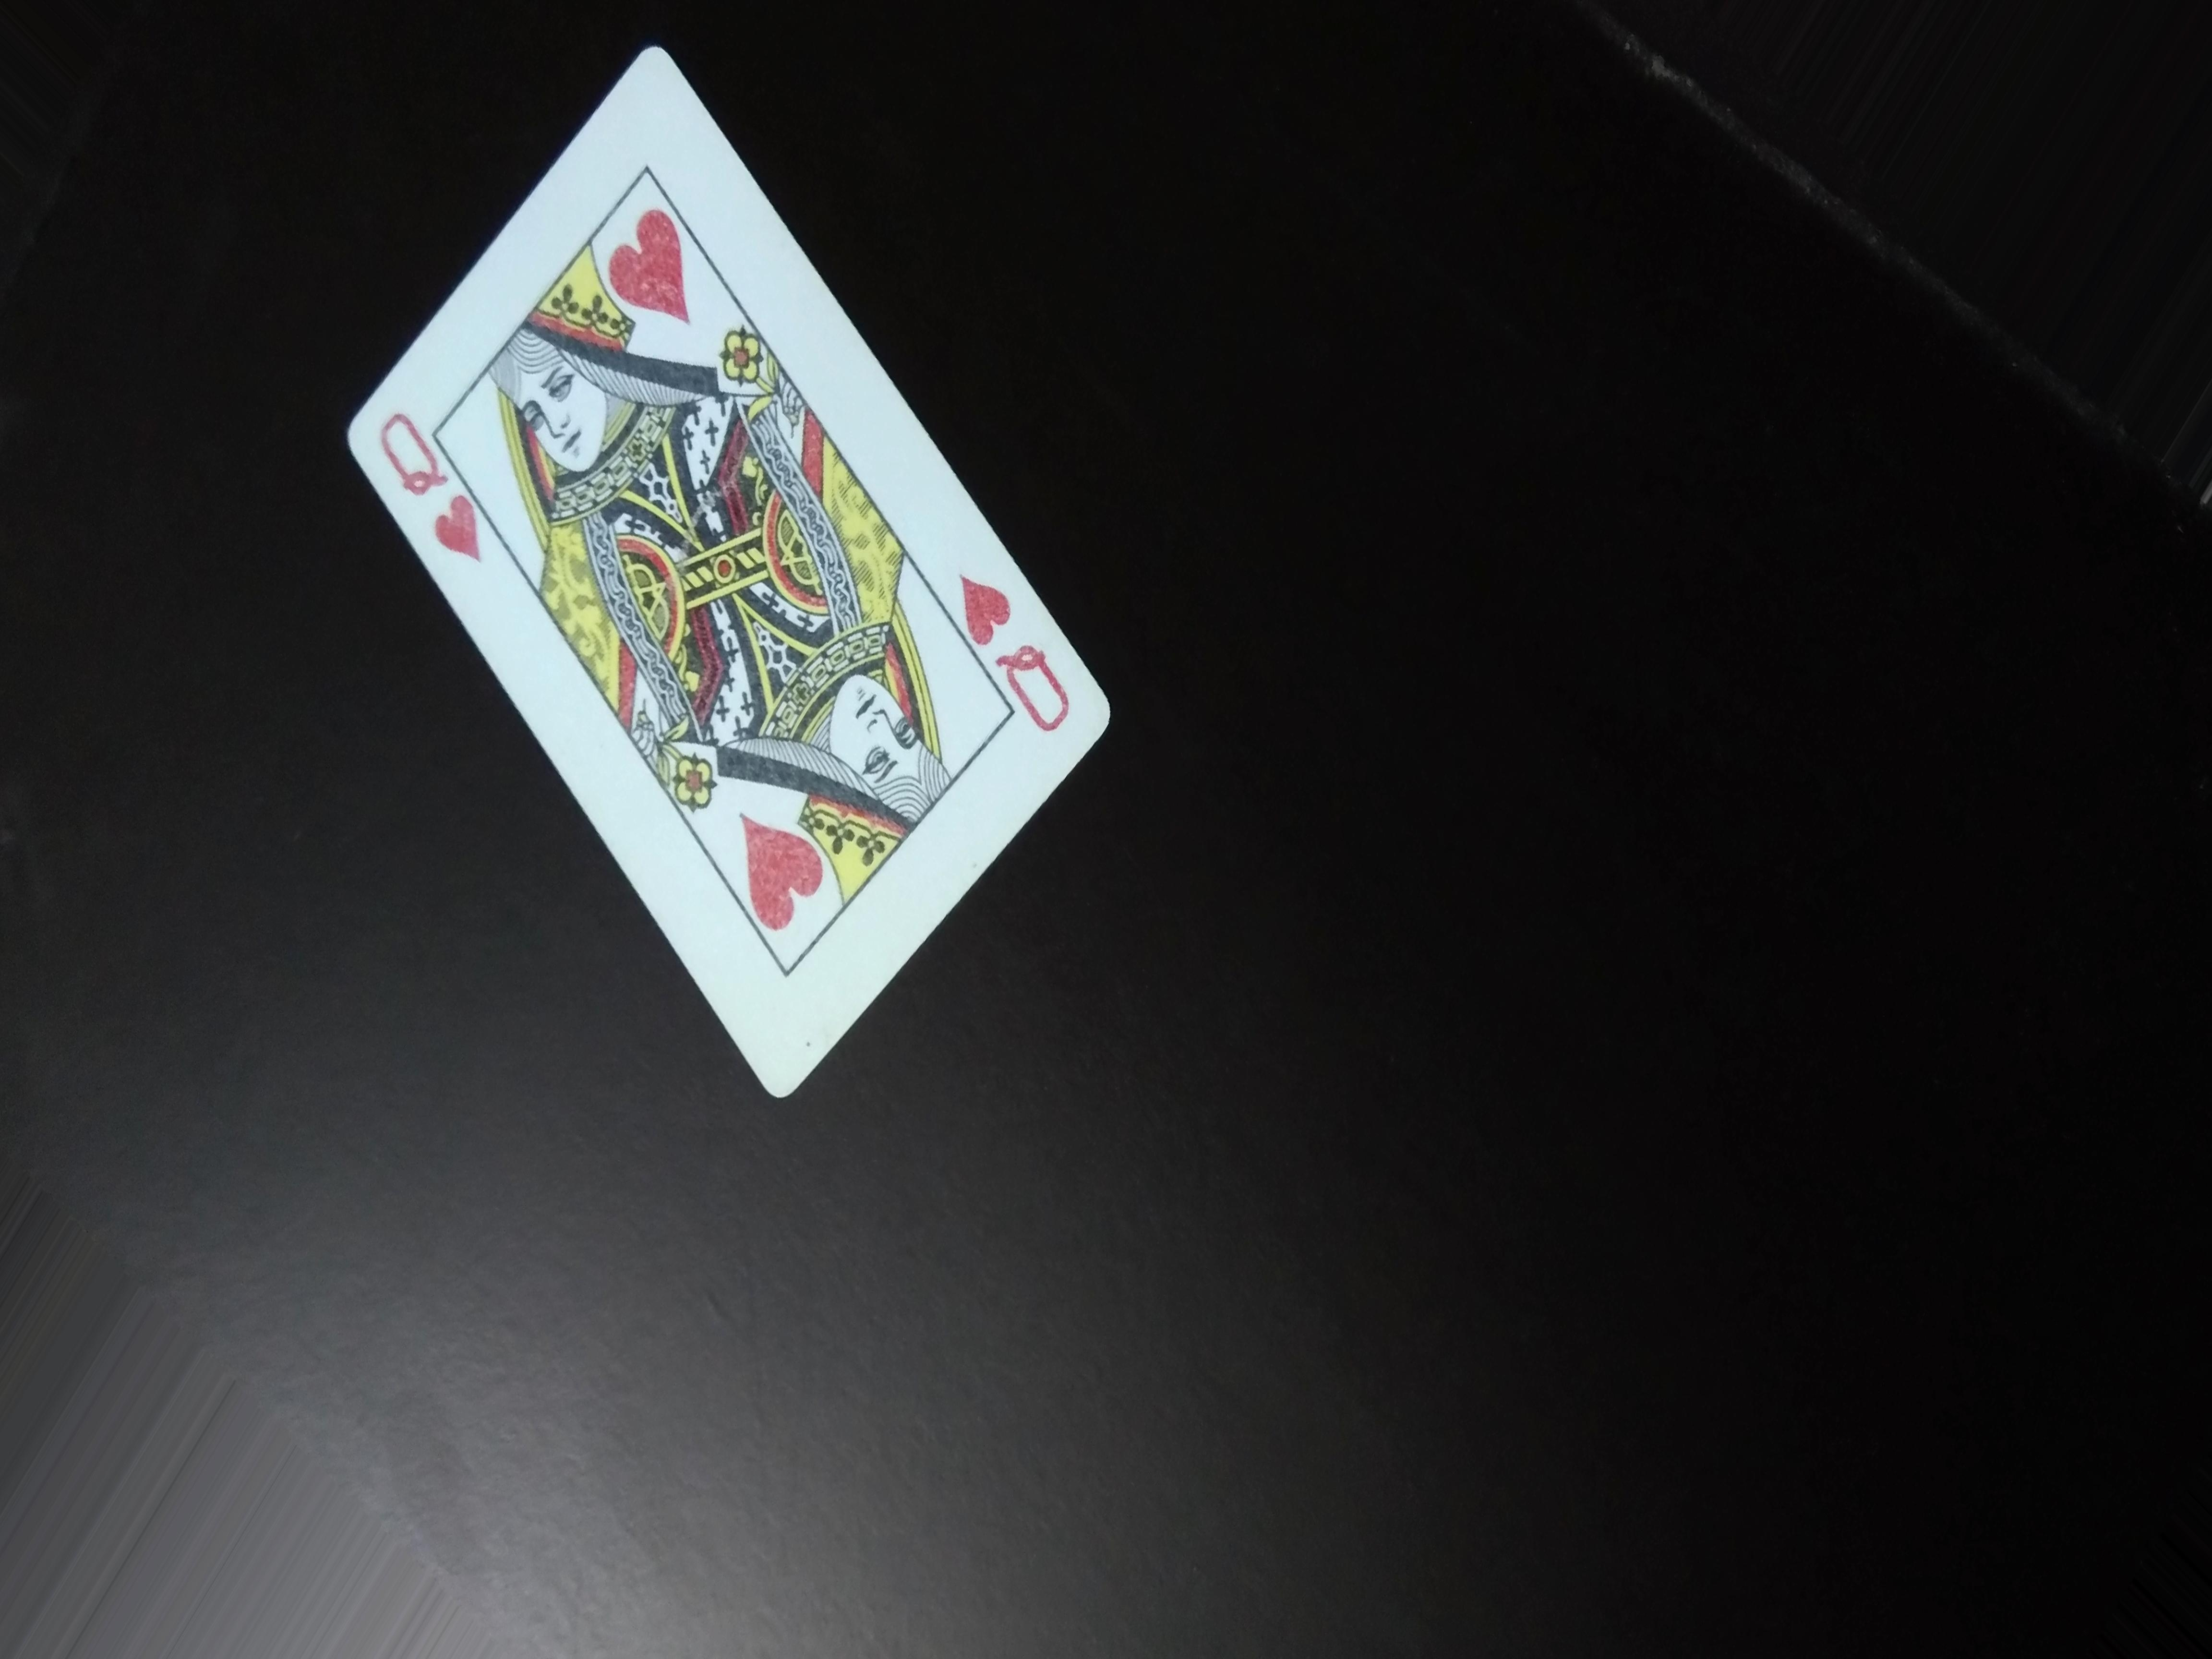QH: (364, 397, 488, 570)
